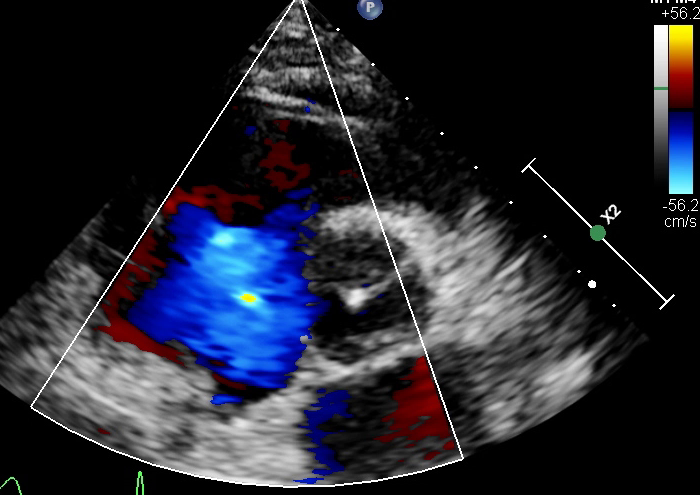TR: (138, 202, 302, 310)
